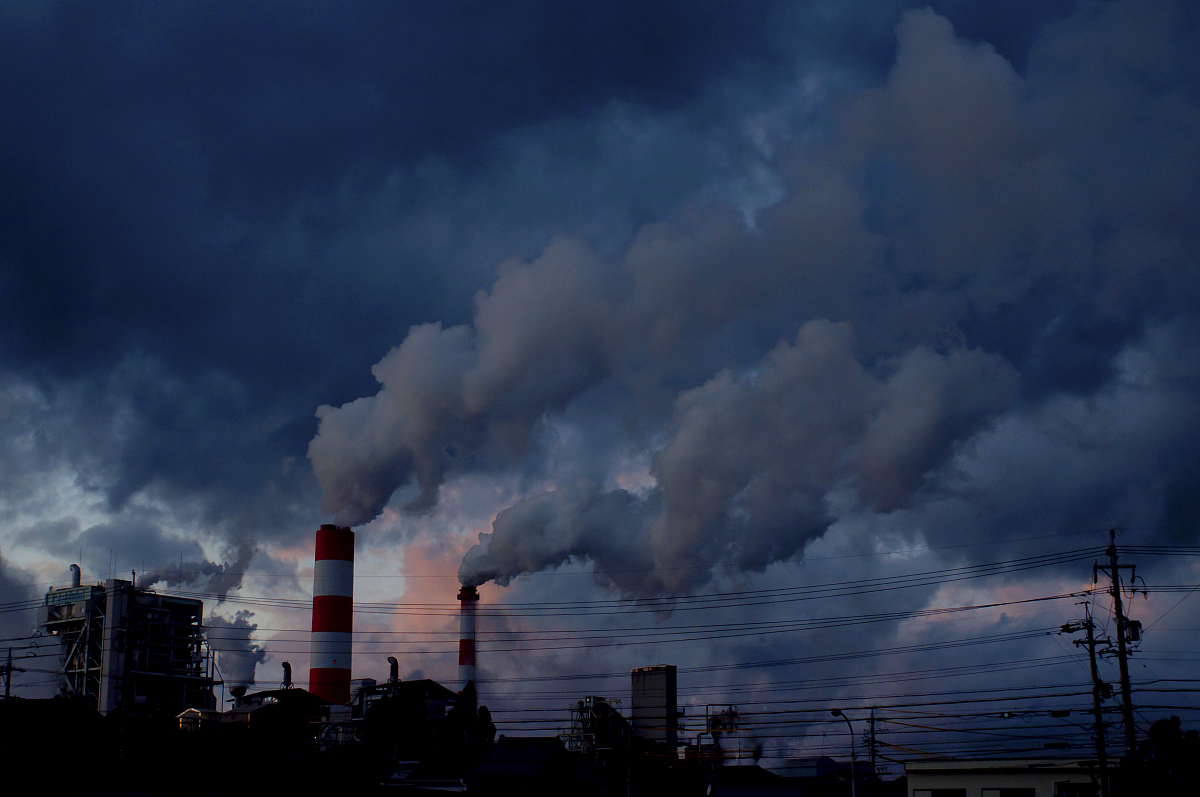dust: (285, 232, 625, 555), (434, 390, 832, 624)
